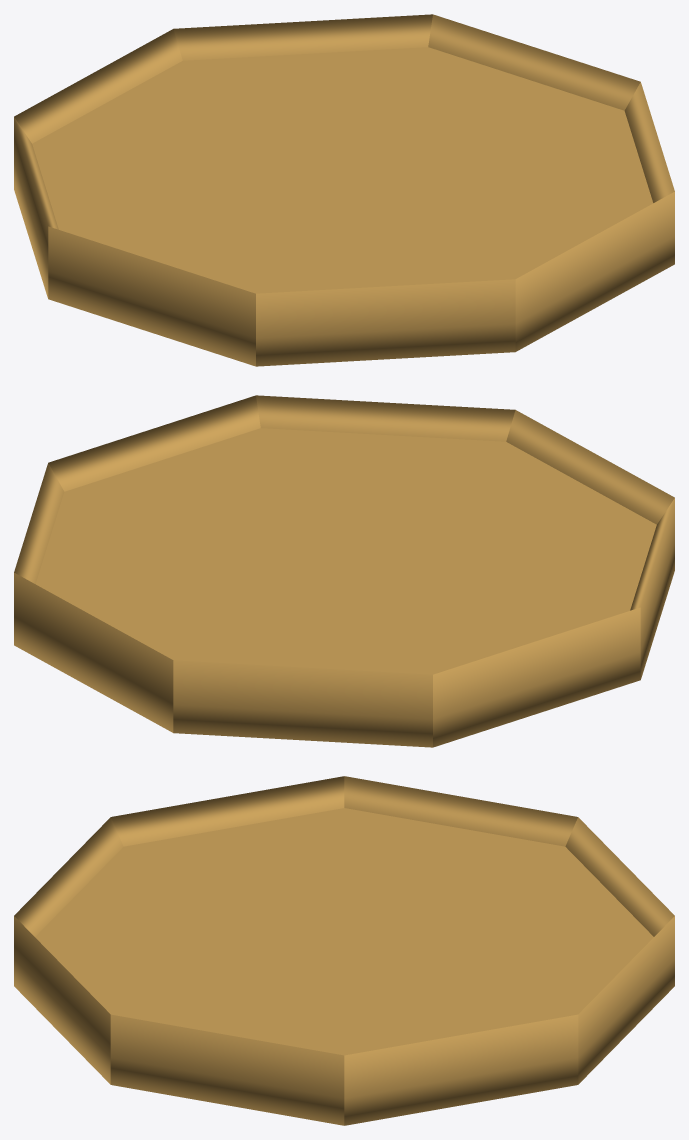
Rendered from Greed_PokerChip.fbx.
3 views of the same model, one above another, from view 1: azimuth 30°, elevation 25°; view 2: azimuth 150°, elevation 25°; view 3: azimuth 270°, elevation 25° (orthographic). The views are drawn at different scales.
Visible parts, largest first — view 1: coin; view 2: coin; view 3: coin.
Part boxes in pixels (box(x1,y1,x2,y2)): coin: box(14, 14, 674, 366); coin: box(14, 395, 674, 747); coin: box(14, 776, 674, 1125).
Bounding box in the file's own units: 1.51 × 0.1775 × 1.51.
